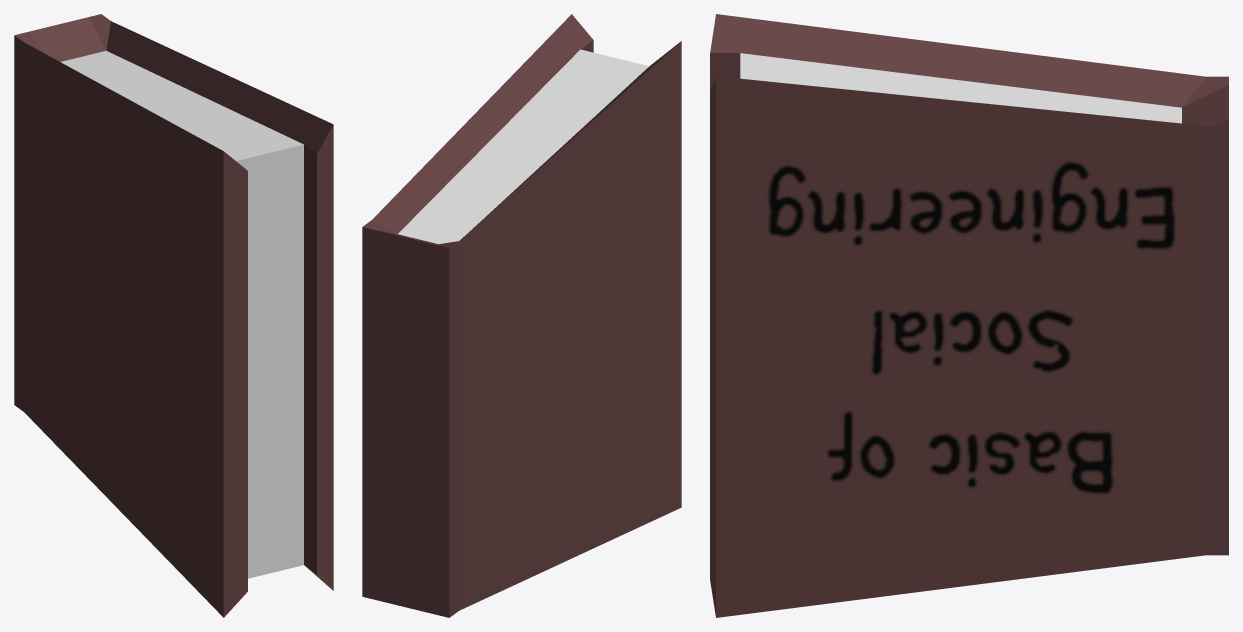
Rendered from closebook (2).fbx.
3 renders of one model, left to right at view 1: azimuth 30°, elevation 25°; view 2: azimuth 150°, elevation 25°; view 3: azimuth 270°, elevation 25°, orthographic. The views are drawn at different scales.
Visible parts, largest first — view 1: Plane, Plane.001; view 2: Plane, Plane.001; view 3: Plane, Plane.001.
Part boxes in pixels (<box>): Plane: <box>14,14,333,617</box>; Plane.001: <box>60,50,303,578</box>; Plane: <box>362,14,681,617</box>; Plane.001: <box>398,49,648,244</box>; Plane: <box>710,14,1228,617</box>; Plane.001: <box>740,53,1181,123</box>.
Bounding box in the file's own units: 55.06 × 224 × 194.
2 materials, 1 textured.
